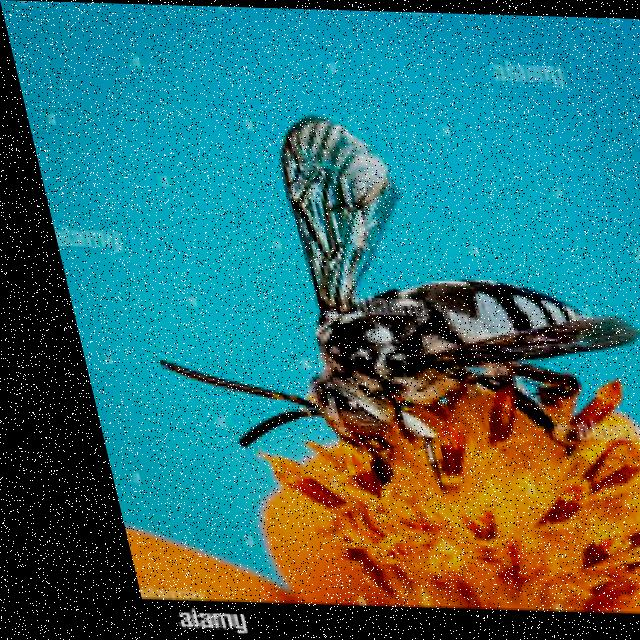Thyreus: (28, 74, 636, 475)
